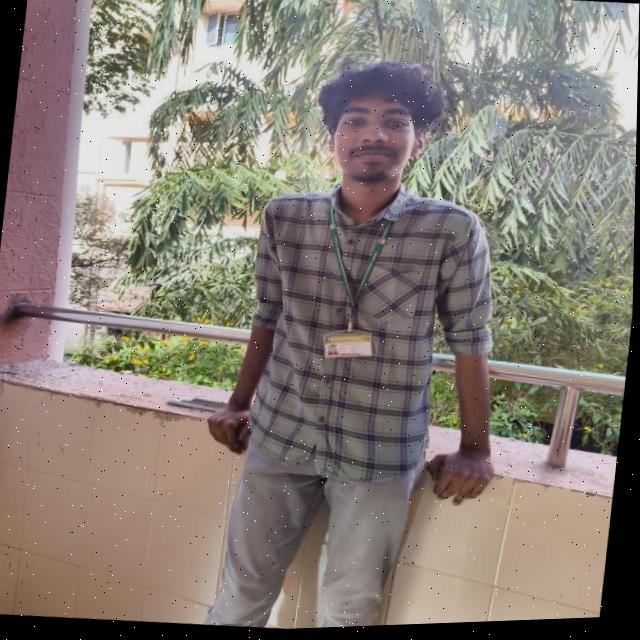id_card: (312, 198, 398, 373)
